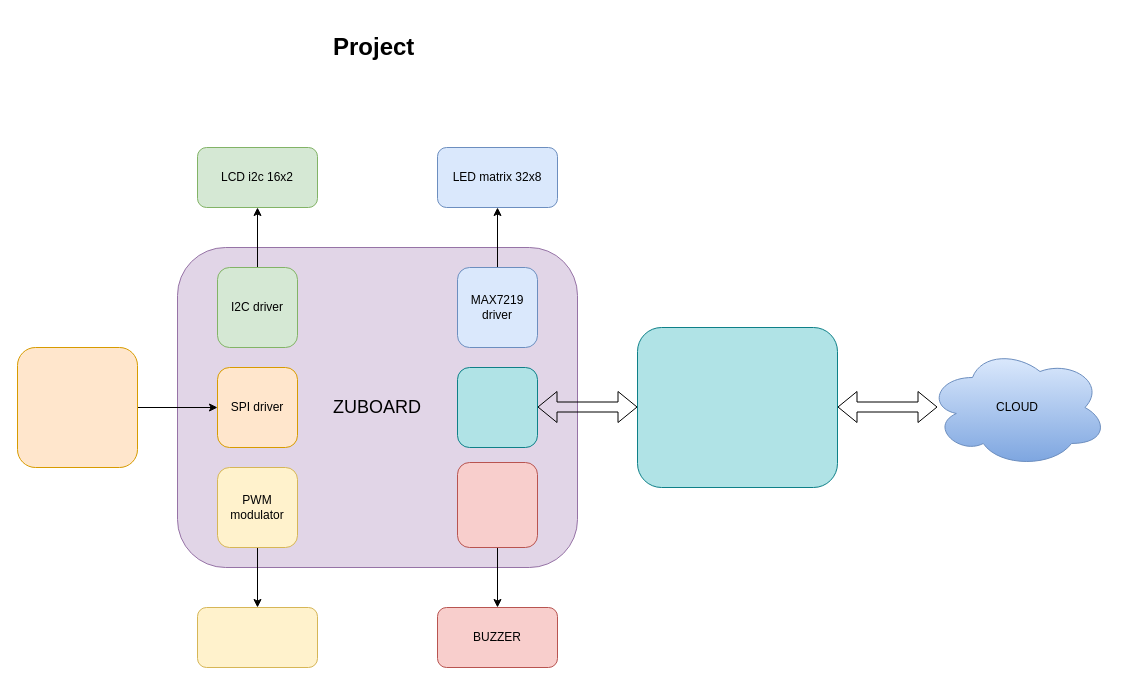
The diagram is 1125 pixels wide and 685 high, and some of its shapes have lost their labels. Here are the shapes that lost their labels. From the top down, the centre of each, then its label:
(x=77, y=407): Module RFID RC522
(x=497, y=407): UART driver
(x=737, y=407): ESP32
(x=497, y=505): BUZZER driver
(x=257, y=637): Servo Motor
